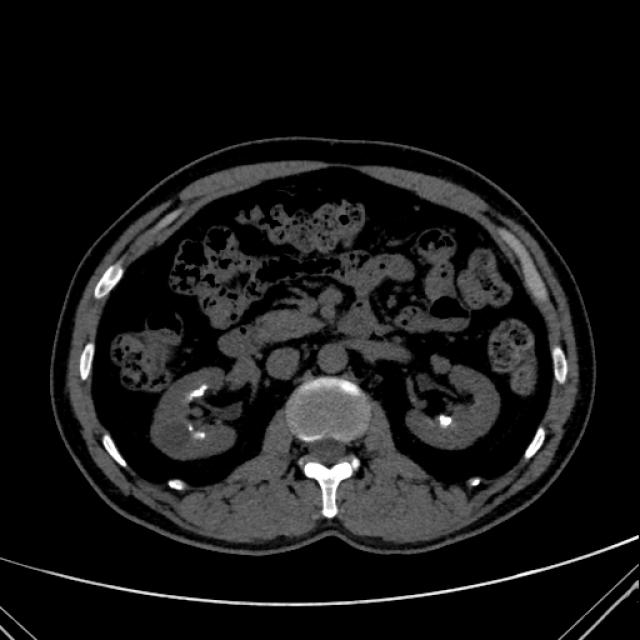kidneystone: (189, 420, 208, 439), (190, 386, 208, 399), (435, 406, 443, 415)
